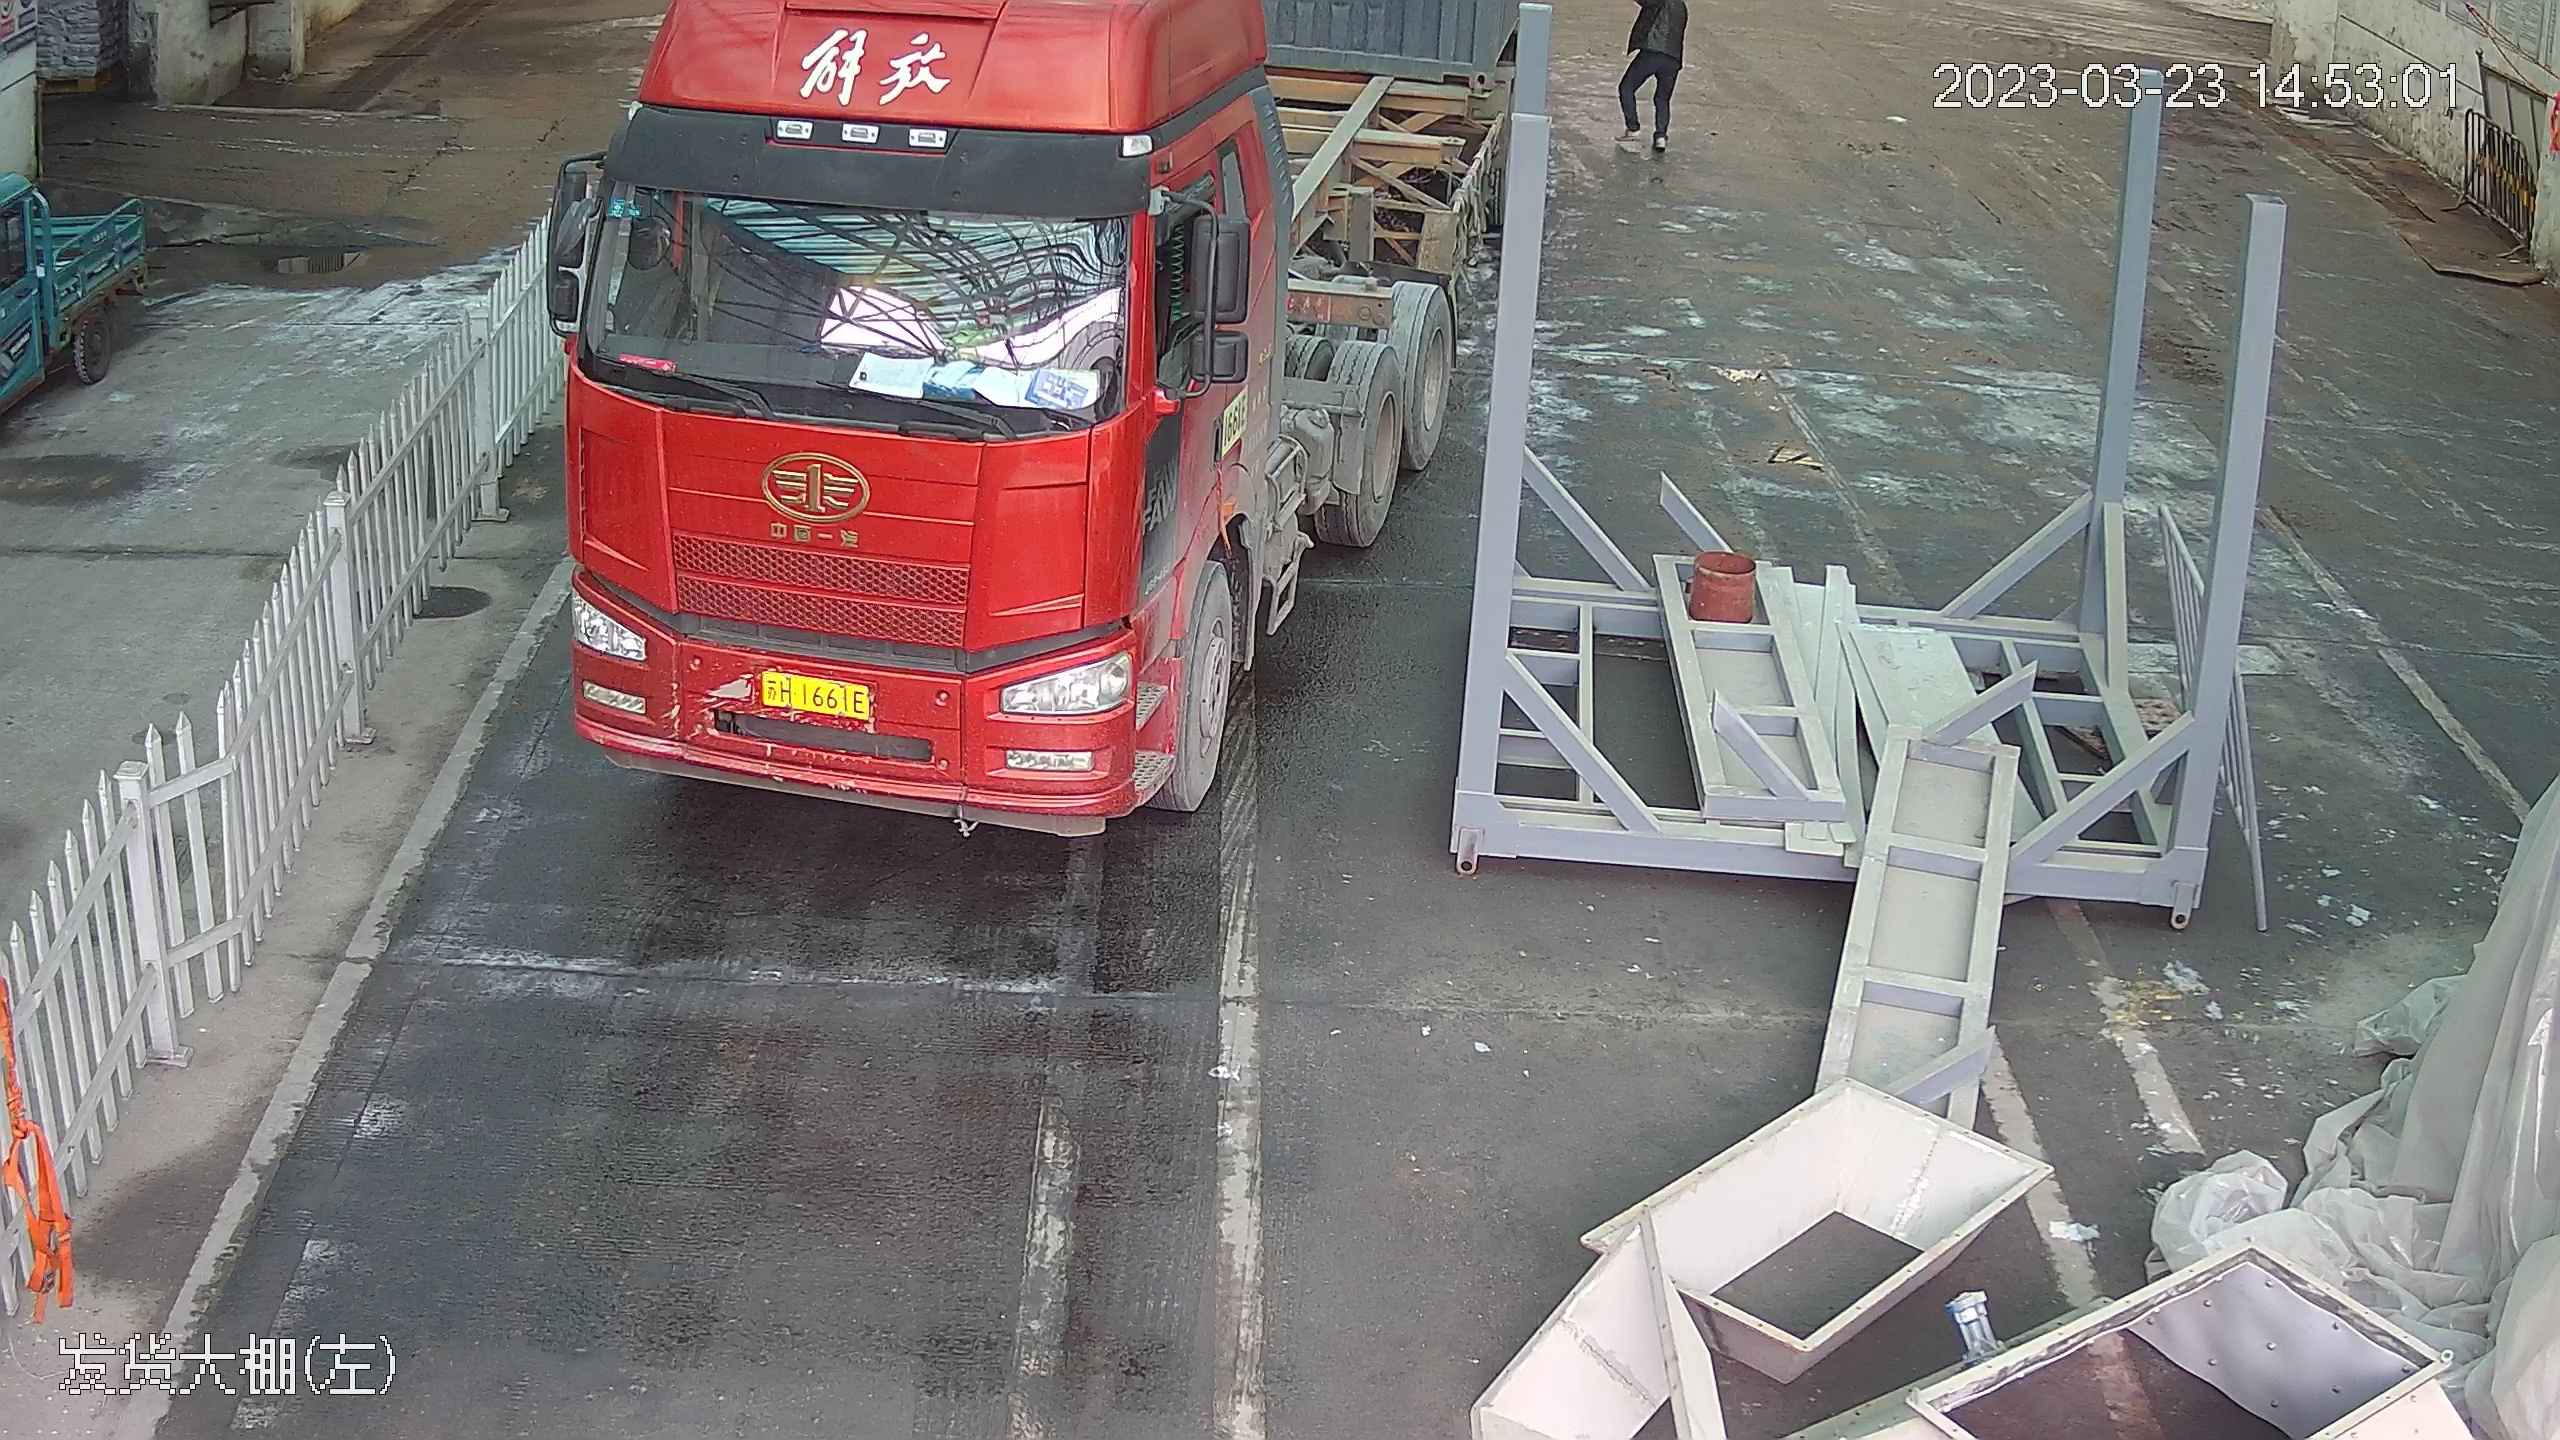people: (1616, 0, 1692, 163)
truck: (525, 0, 1494, 819)
